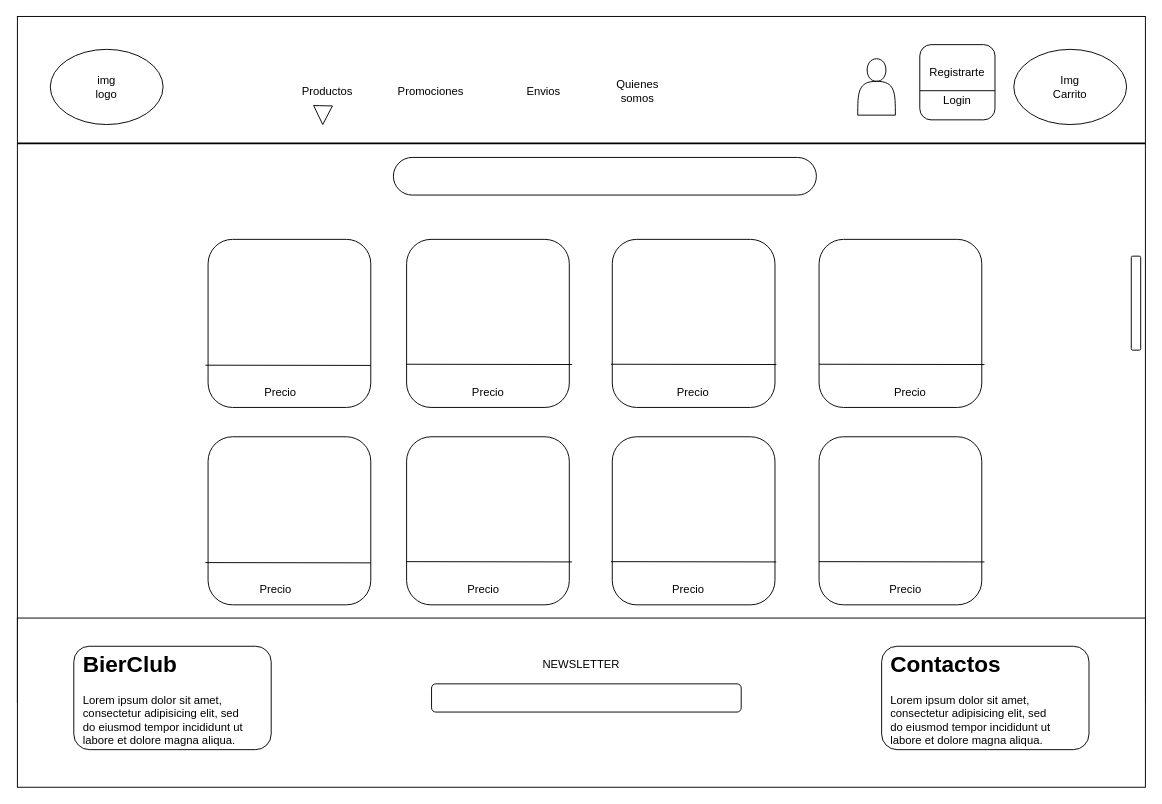
Image size: 1162x804. Some labels were removed from this diagram. The box of each missing label's shape, as (x1, y1, x2, y2) in pixels:
Mi cuenta: (857, 58, 895, 115)
Que estas buscando?: (392, 157, 816, 195)
